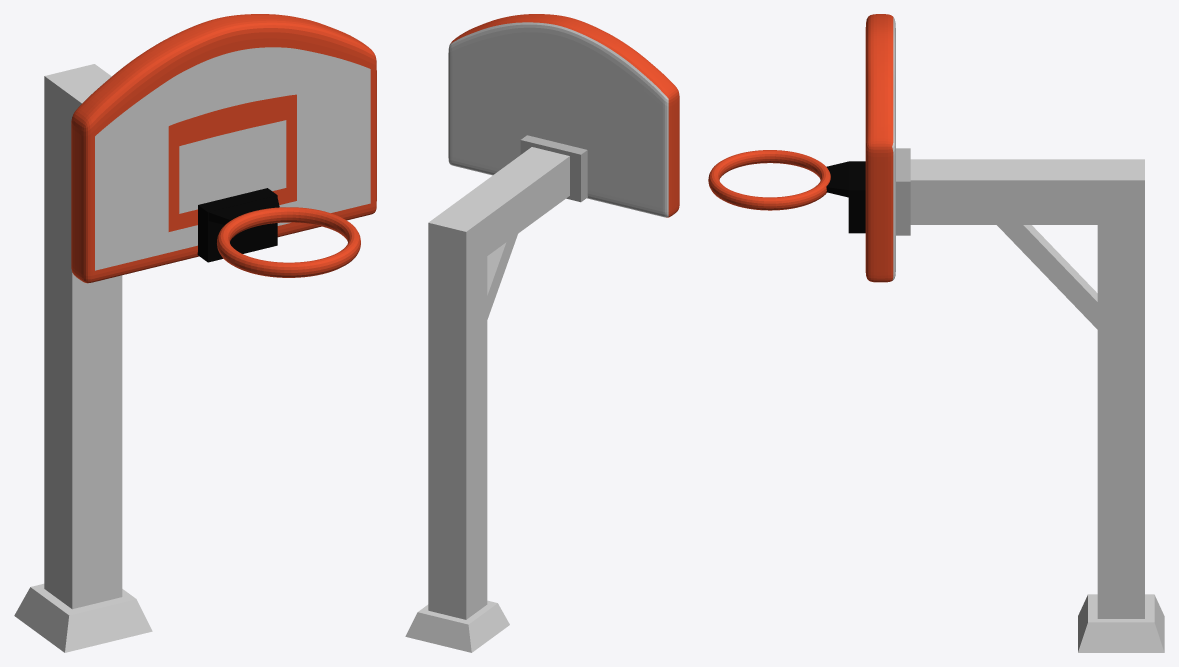
Rendered from Basket_Bol (1).fbx.
3 renders of one model, left to right at view 1: azimuth 30°, elevation 25°; view 2: azimuth 150°, elevation 25°; view 3: azimuth 270°, elevation 25°, orthographic. The views are drawn at different scales.
Visible parts, largest first — view 1: Board, Post, Basket; view 2: Post, Board; view 3: Post, Board, Basket.
Part boxes in pixels (bbox=[...]): Board: bbox=[71, 14, 376, 283]; Post: bbox=[14, 64, 152, 652]; Basket: bbox=[197, 188, 360, 277]; Post: bbox=[405, 135, 587, 652]; Board: bbox=[448, 14, 679, 217]; Post: bbox=[896, 148, 1164, 652]; Board: bbox=[865, 14, 895, 282]; Basket: bbox=[708, 150, 865, 233].
Bounding box in the file's own units: 181 × 414 × 284.
